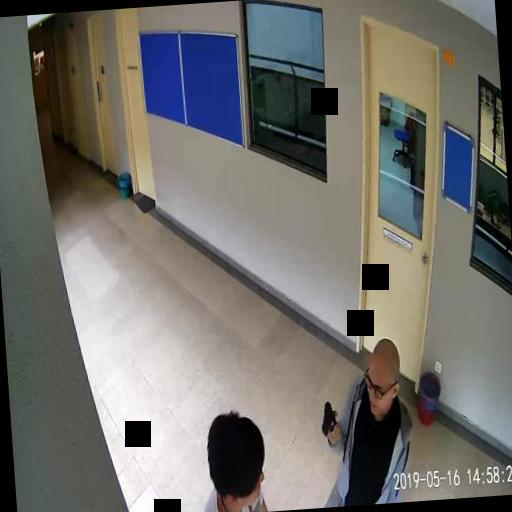Handgun: (318, 399, 337, 439)
